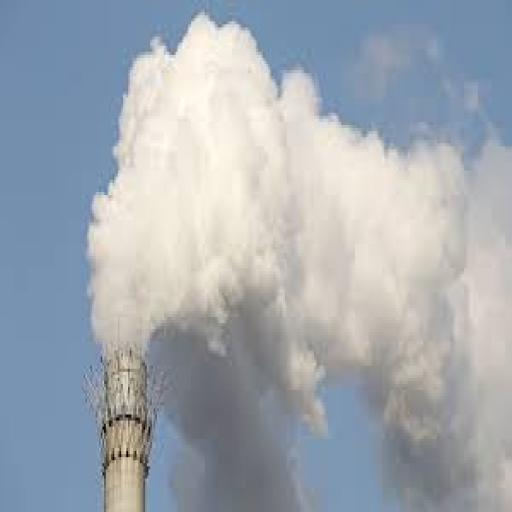smoke: (84, 24, 480, 378)
